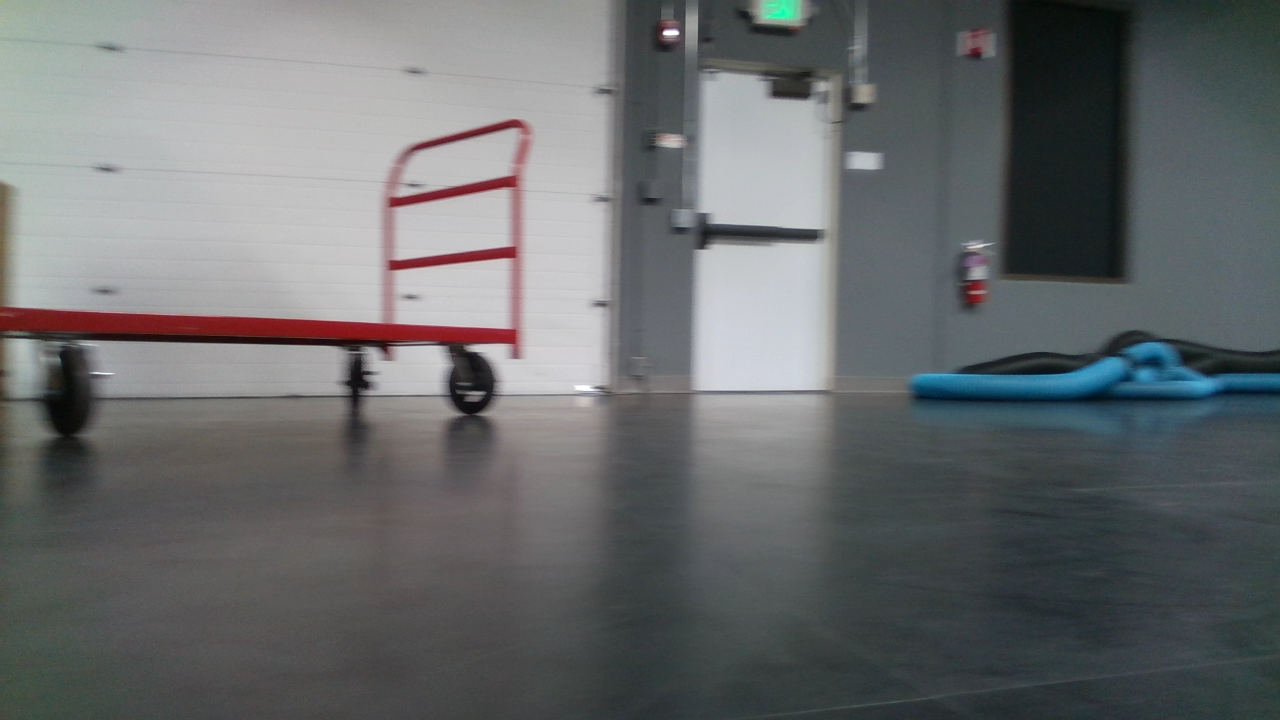Dolly: (0, 118, 534, 433)
Wheel: (40, 350, 97, 432), (448, 355, 496, 413), (344, 352, 368, 398)
